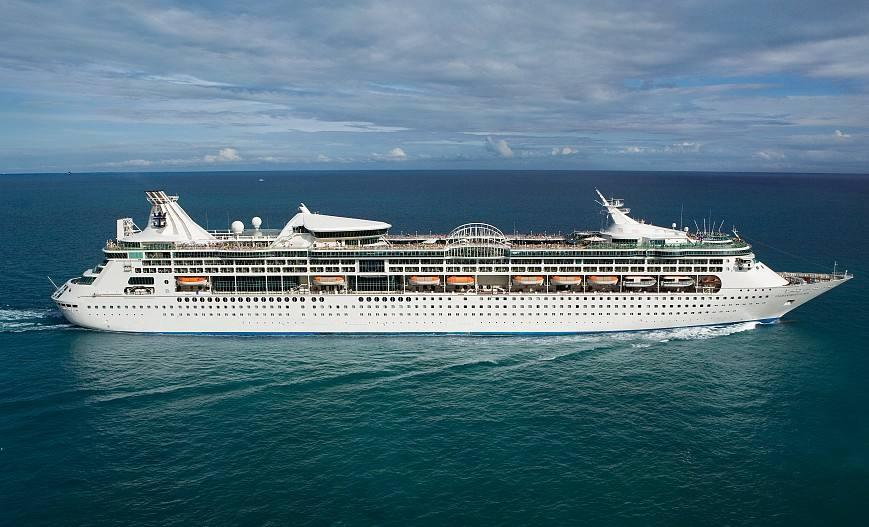youlun: (48, 193, 846, 344)
